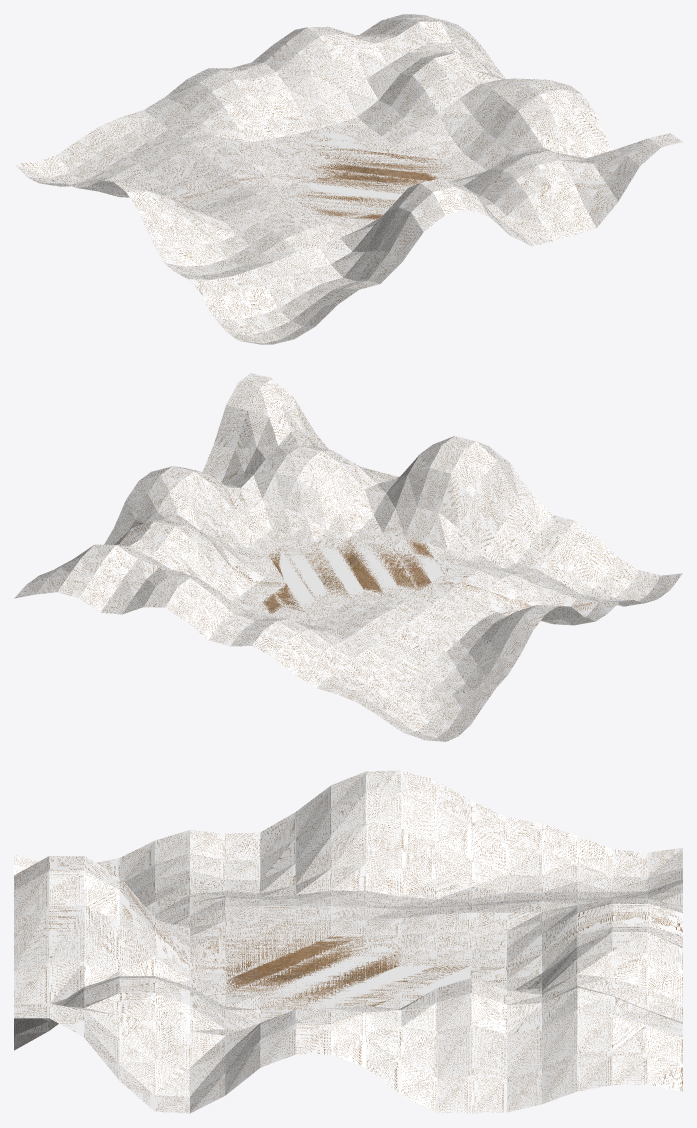
The model's file is terrain2.dae.
3 views of the same model, one above another, from view 1: azimuth 30°, elevation 25°; view 2: azimuth 150°, elevation 25°; view 3: azimuth 270°, elevation 25° (orthographic). The views are drawn at different scales.
Parts seen in each view (by area): view 1: group_0; view 2: group_0; view 3: group_0.
Boxes of the visible parts, left/top/right/bottom form: group_0: left=14, top=14, right=682, bottom=344; group_0: left=14, top=373, right=682, bottom=741; group_0: left=14, top=770, right=682, bottom=1113.
Size of the model in its own units: 30.18 by 28.67 by 7.46.
Materials: 2 (1 with a texture image).
